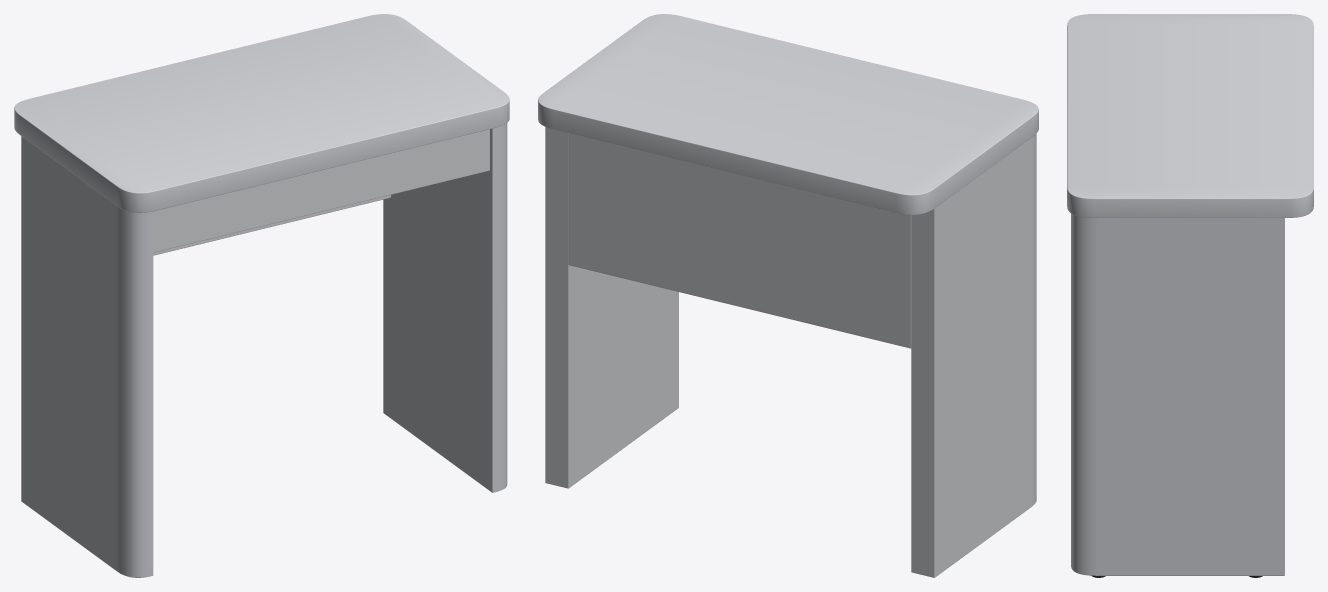
The model's file is abo-B07K6S2G6J.glb.
3 renders of one model, left to right at view 1: azimuth 30°, elevation 25°; view 2: azimuth 150°, elevation 25°; view 3: azimuth 270°, elevation 25°, orthographic. The views are drawn at different scales.
Bounding box in the file's own units: 0.79 × 0.76 × 0.446.
Materials: 1 (1 with a texture image).
